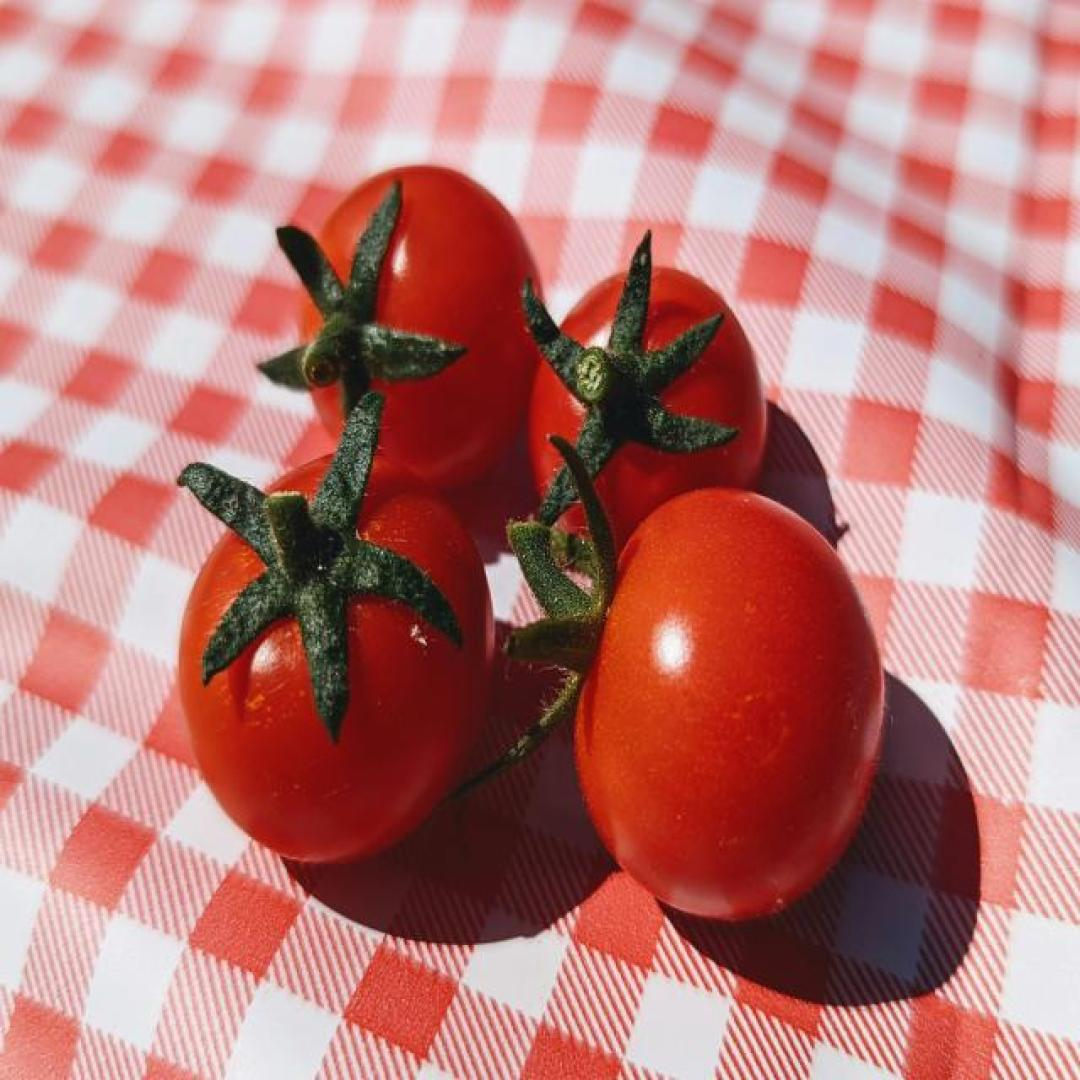matang: (572, 486, 884, 921), (179, 447, 496, 866), (300, 167, 547, 495), (530, 267, 768, 577)
